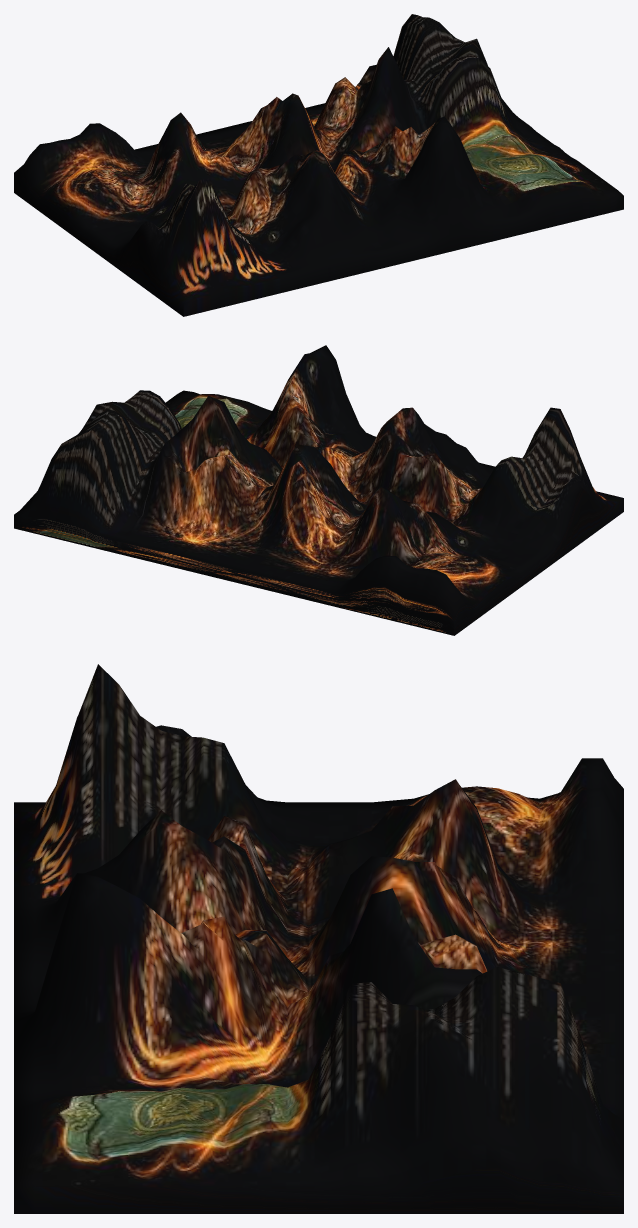
File: CUL_32_Tiger.glb
3 views of the same model, one above another, from view 1: azimuth 30°, elevation 25°; view 2: azimuth 150°, elevation 25°; view 3: azimuth 270°, elevation 25° (orthographic). The views are drawn at different scales.
Parts seen in each view (by area): view 1: CUL_32_Tiger; view 2: CUL_32_Tiger; view 3: CUL_32_Tiger.
Boxes of the visible parts, x1,y1,x2,y2 form: CUL_32_Tiger: [14, 14, 623, 316]; CUL_32_Tiger: [14, 345, 623, 635]; CUL_32_Tiger: [14, 664, 623, 1213].
Bounding box in the file's own units: 2 × 0.51 × 1.33.
1 material, 1 textured.
